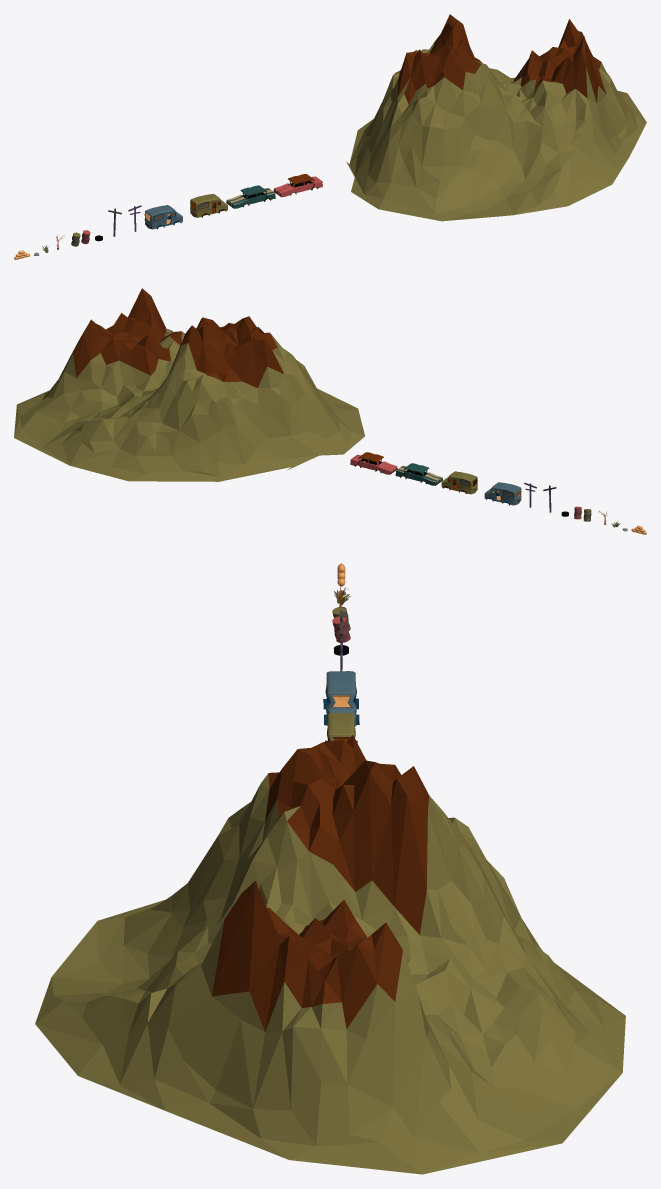
The model's file is level1props.fbx.
3 renders of one model, top to bottom at view 1: azimuth 30°, elevation 25°; view 2: azimuth 150°, elevation 25°; view 3: azimuth 270°, elevation 25°, orthographic. The views are drawn at different scales.
Visible parts, largest first — view 1: mountain, car_blue, Cube.026, car_darkgreen, car_darkgreen.001; view 2: mountain, car_blue, Cube.026, car_darkgreen, car_darkgreen.001; view 3: mountain, car_blue.
Part boxes in pixels (x1,y1,x2,y2): mountain: (346,14,646,221); car_blue: (144,205,182,229); Cube.026: (190,194,227,217); car_darkgreen: (226,185,275,208); car_darkgreen.001: (273,174,322,197); mountain: (14,288,364,481); car_blue: (484,482,521,505); Cube.026: (441,471,477,494); car_darkgreen: (395,463,442,485); car_darkgreen.001: (350,452,397,474); mountain: (35,735,625,1174); car_blue: (323,671,359,726).
Bounding box in the file's own units: 43989 × 8364 × 18472.
